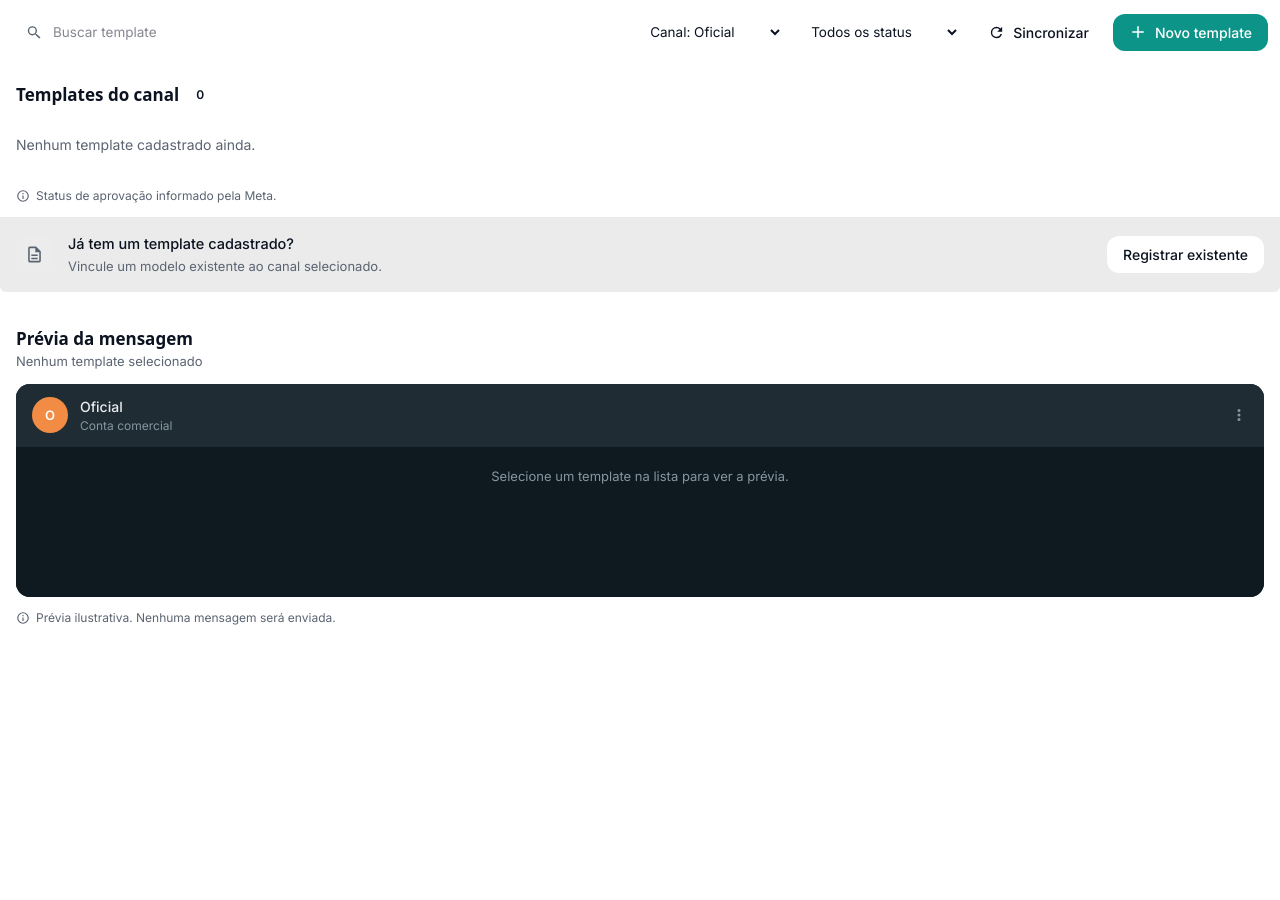
Test: TemplatesAdminTab › shows the name hint text explaining the allowed characters
Click the button "Novo template" at (1190, 32), box x1=1113 y1=14 x2=1268 y2=50
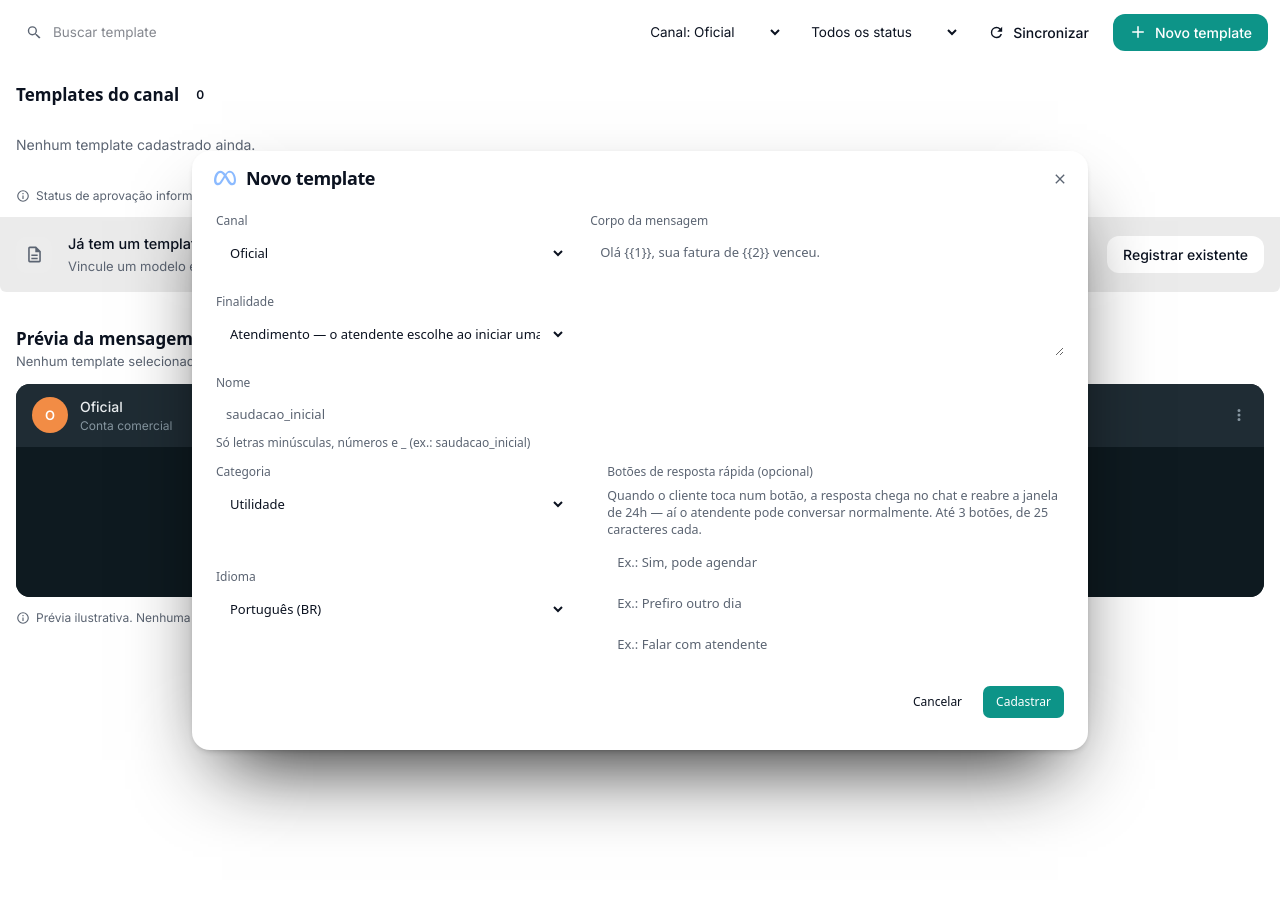
Result: the text "Só letras minúsculas, números e _ (ex.: saudacao_inicial)" is shown at x1=216 y1=434 x2=566 y2=450
